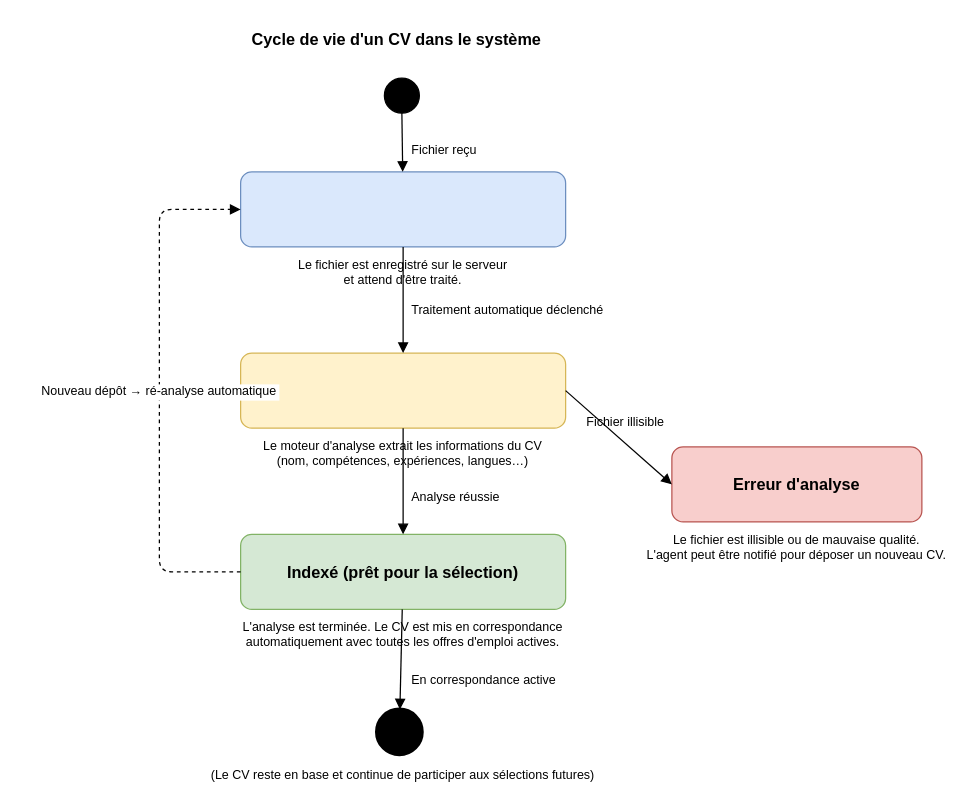
Some shapes in this 968 by 810 pixel diagram are drawn without their labels. Here are the shapes that lost their labels. From the top down, the box of each, then its label:
(239, 171, 566, 247): Déposé
(239, 352, 566, 428): En cours d'analyse
